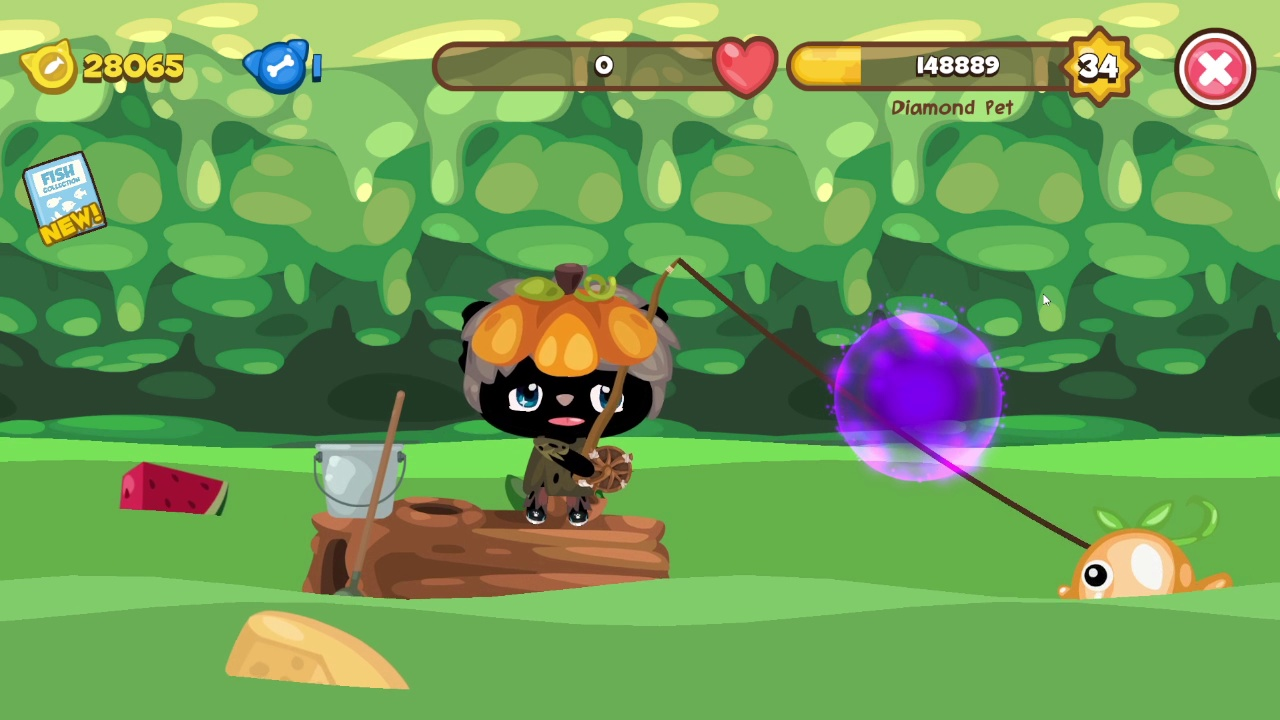point: (829, 313, 1006, 480)
